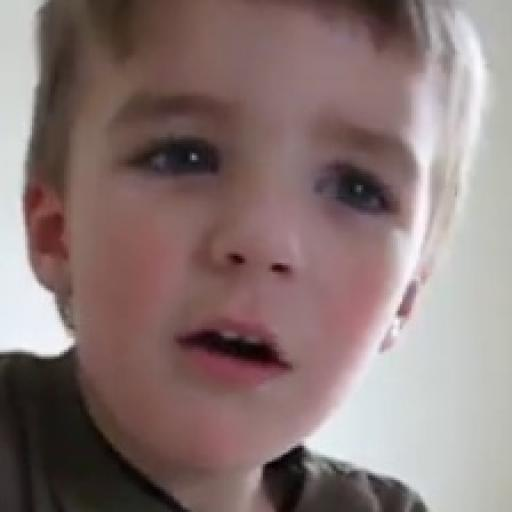Autism: (64, 18, 512, 512)
